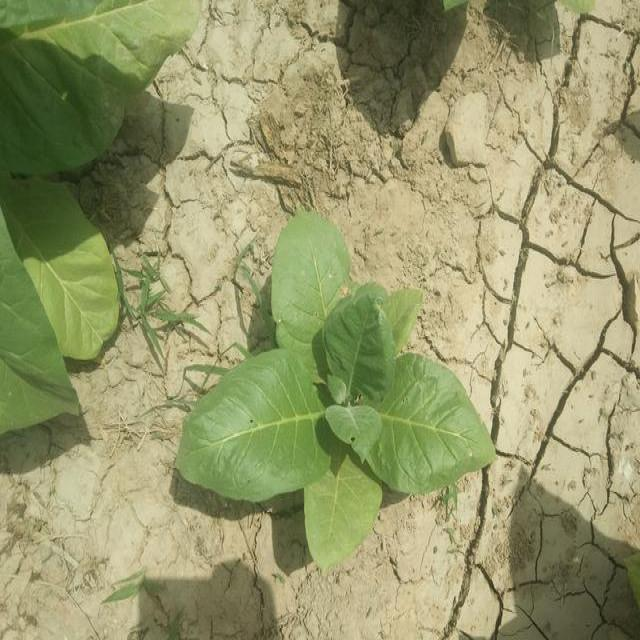crop: (192, 218, 484, 556), (0, 0, 200, 161), (0, 179, 119, 420)
